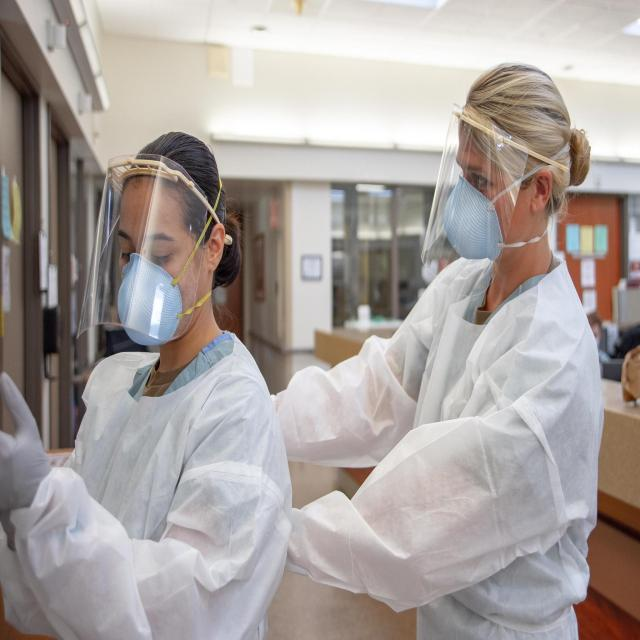Mask: (445, 176, 505, 266), (118, 260, 182, 343)
